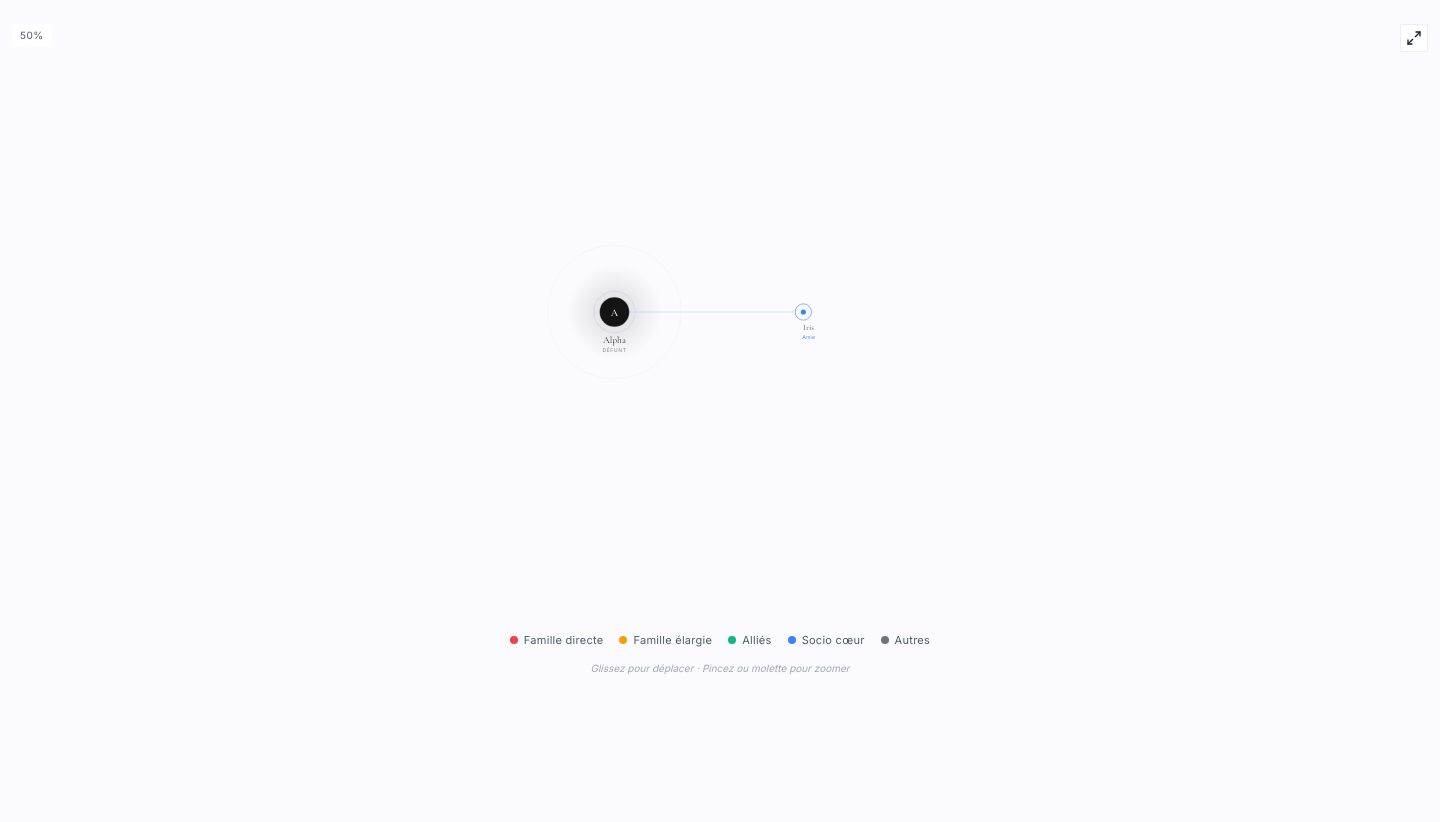
Scenario: Premium graph interactions › bounds wheel zoom and resets zoom and pan
Later steps or results of the test are not shown.
Expected: the text "50%" is shown, [12,24,52,47]
Click the button named "Réinitialiser" at (1414, 38), box [1400,24,1428,52]
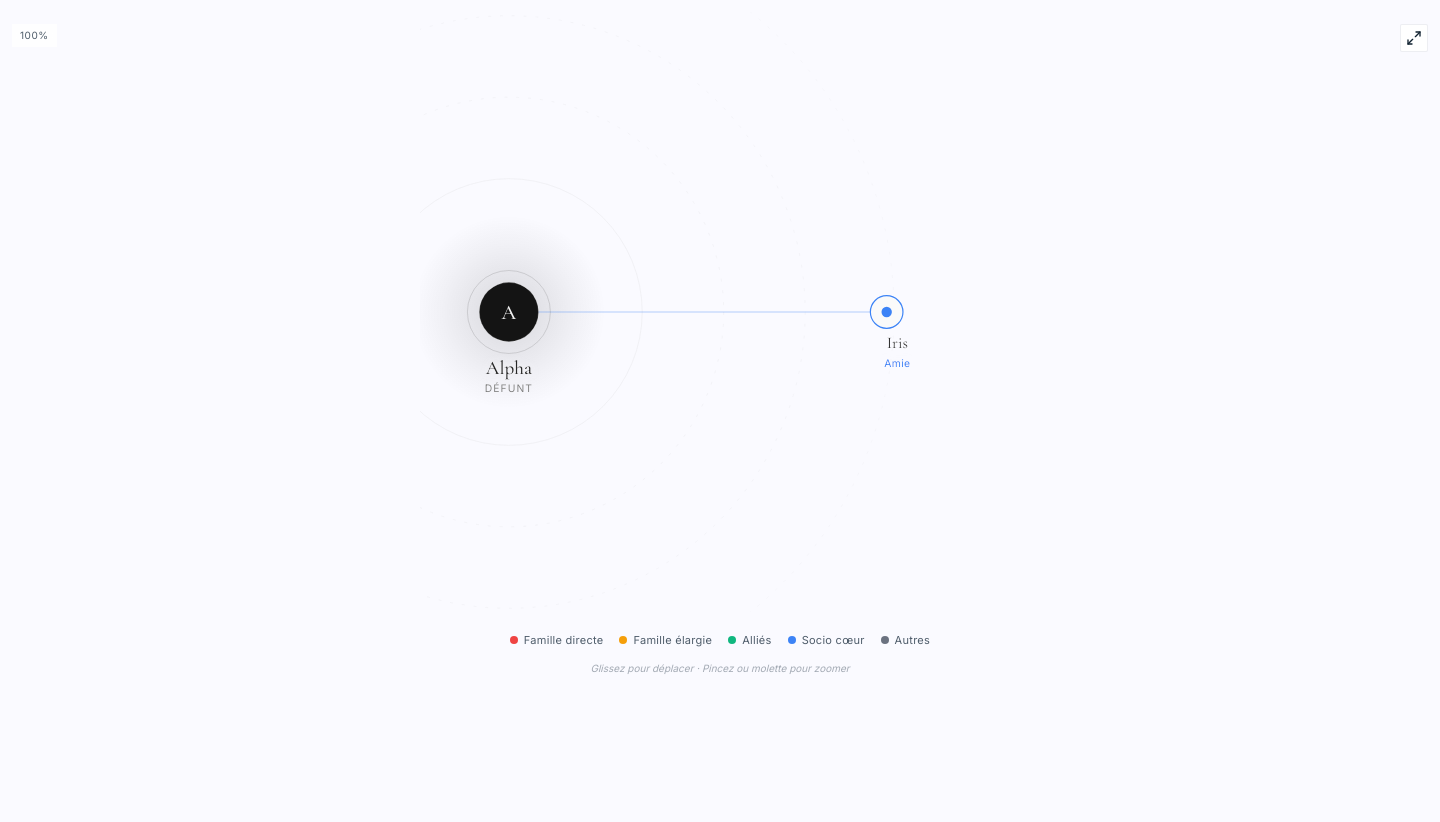
Now the text "100%" is shown, box [12,24,56,47]
